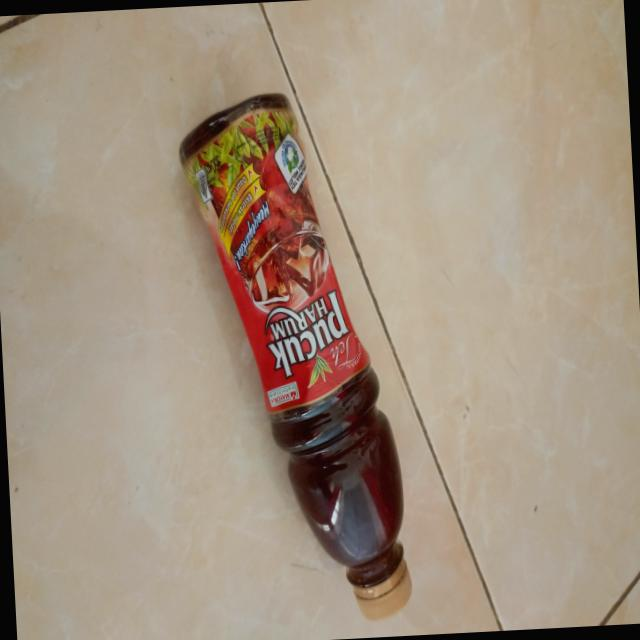teh-pucuk: (175, 88, 412, 634)
